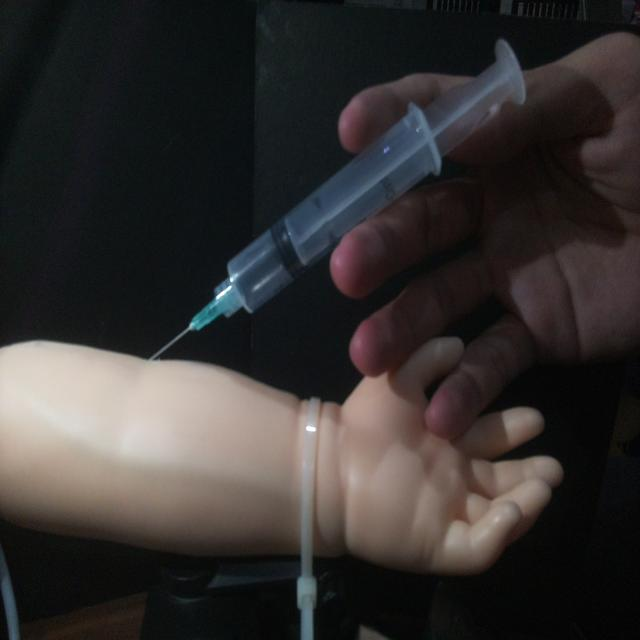25deg: (143, 35, 530, 363)
